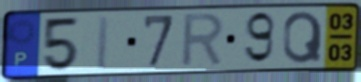5: (40, 15, 86, 73)
7: (141, 14, 176, 70)
9: (241, 11, 278, 67)
I: (93, 14, 113, 72)
Q: (281, 9, 325, 66)
R: (178, 11, 228, 70)
